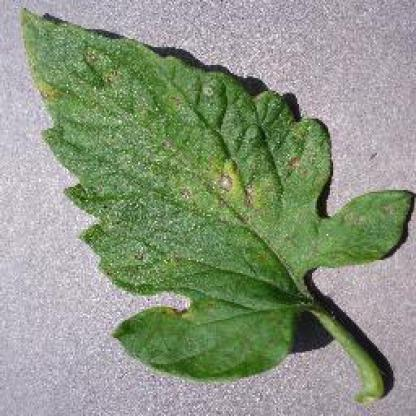bad leaf: (165, 133, 280, 270)
